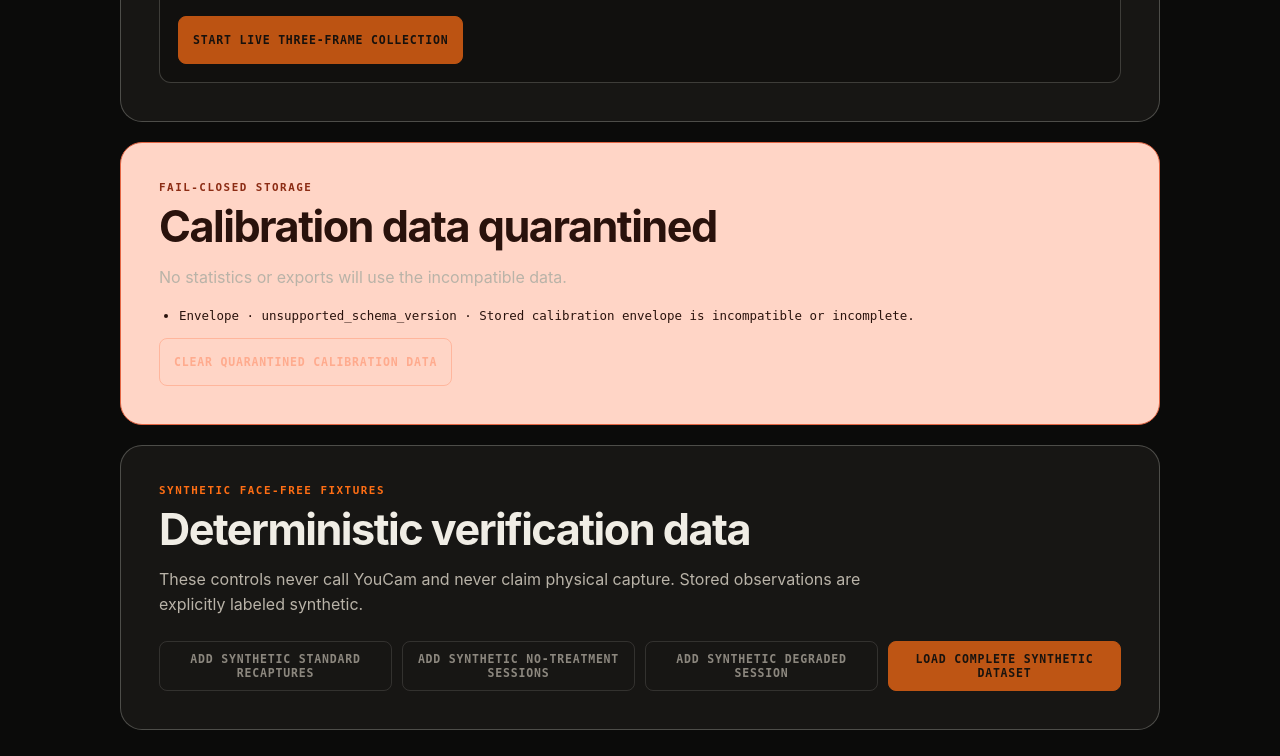
it: protected redness calibration instrument › fails closed on corrupt durable data and clears it only after confirmation
The image size is (1280, 756).
(page scrolled)
Expected: the message that starts with "FAIL-CLOSED STORAGE" shows "Calibration data quarantined", [159,200,717,252]
Expected: the message that starts with "FAIL-CLOSED STORAGE" shows "unsupported_schema_version", [262,308,457,323]
Step 1. Click the button "CLEAR QUARANTINED CALIBRATION DATA" → (306, 362), box [159,338,452,386]
(page scrolled)
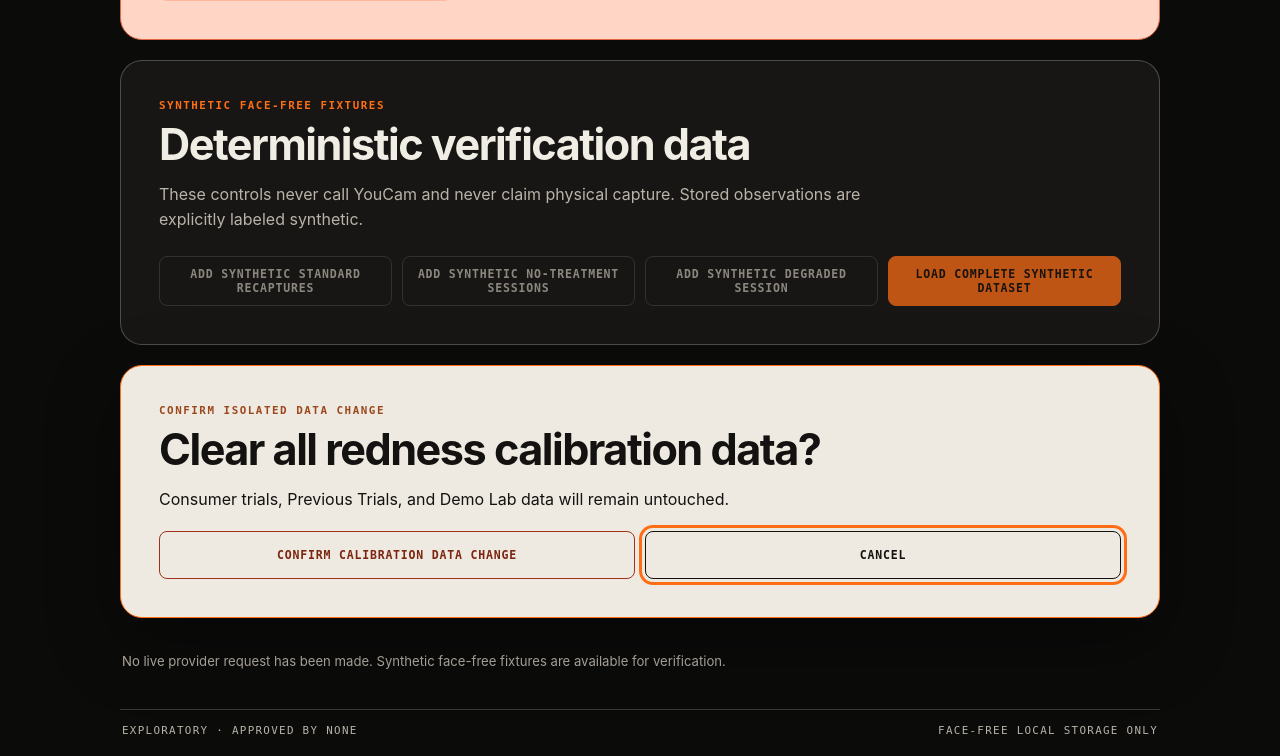
Step 2. Click the button "CONFIRM CALIBRATION DATA CHANGE" → (397, 555), box [159,531,635,579]
(page scrolled)
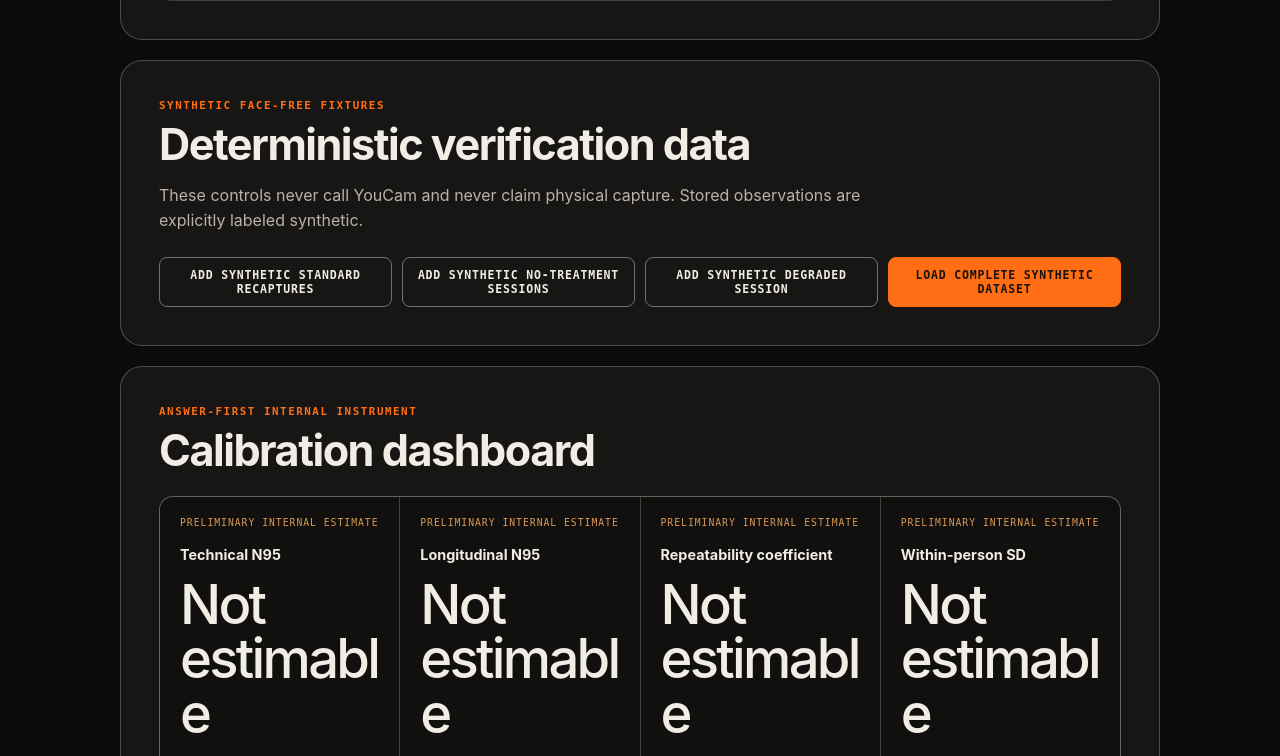
Now the heading "Calibration dashboard" is shown, box [159,424,594,476]
